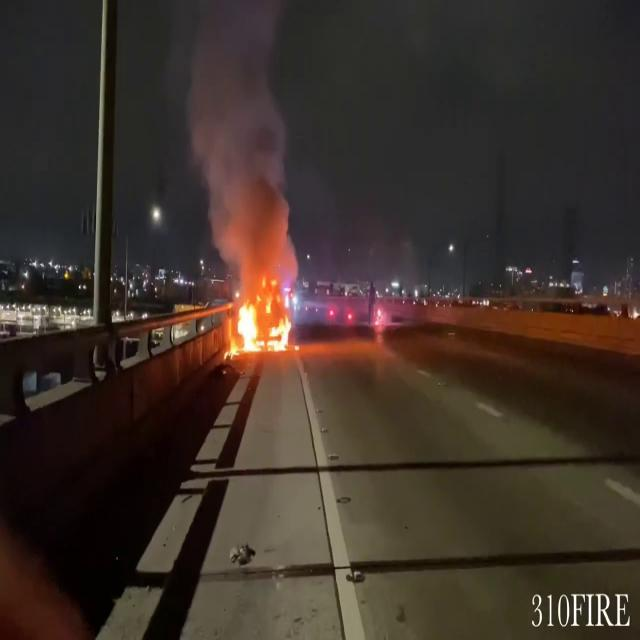Fire: (226, 278, 294, 358)
Smoke: (178, 0, 299, 276)
